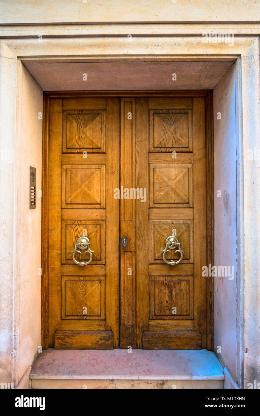door: (34, 83, 222, 355)
